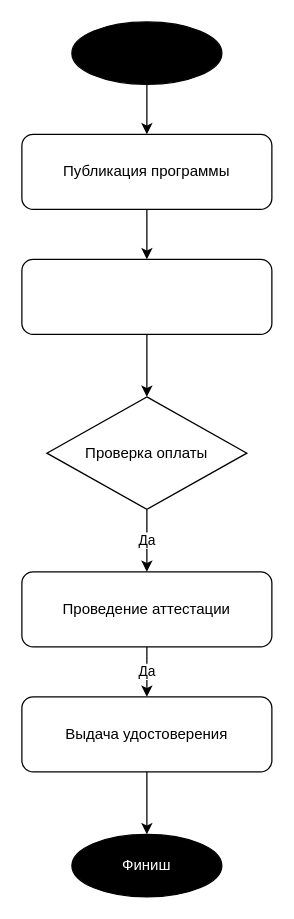
Image size: 294x919. Some labels were removed from this diagram. Each missing label, with the box of its shape:
Подача заявки: (21, 258, 272, 334)
Старт: (71, 21, 222, 84)
